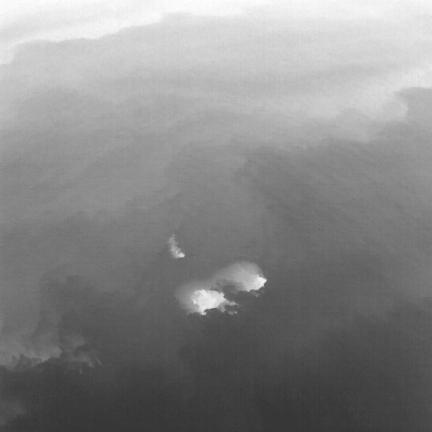flukeprints: (190, 289, 234, 314), (248, 276, 266, 290), (175, 250, 185, 256)
